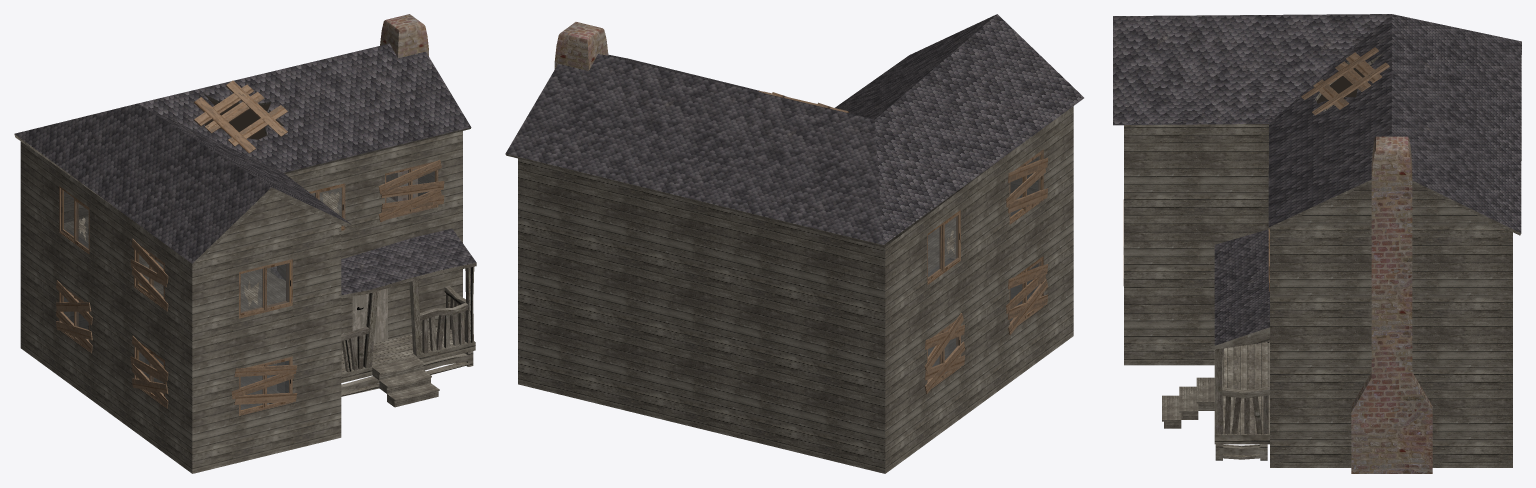
File: house-lite.glb
The picture shows the model from 3 angles, left to right: view 1: azimuth 30°, elevation 25°; view 2: azimuth 150°, elevation 25°; view 3: azimuth 270°, elevation 25°; orthographic projection. The views are drawn at different scales.
Visible parts, largest first — view 1: House; view 2: House; view 3: House.
Part boxes in pixels (left/top/right/bottom): House: left=14, top=14, right=476, bottom=473; House: left=505, top=14, right=1083, bottom=473; House: left=1113, top=14, right=1521, bottom=473.
Size of the model in its own units: 18.87 by 14.65 by 16.81.
7 materials, 5 textured.
